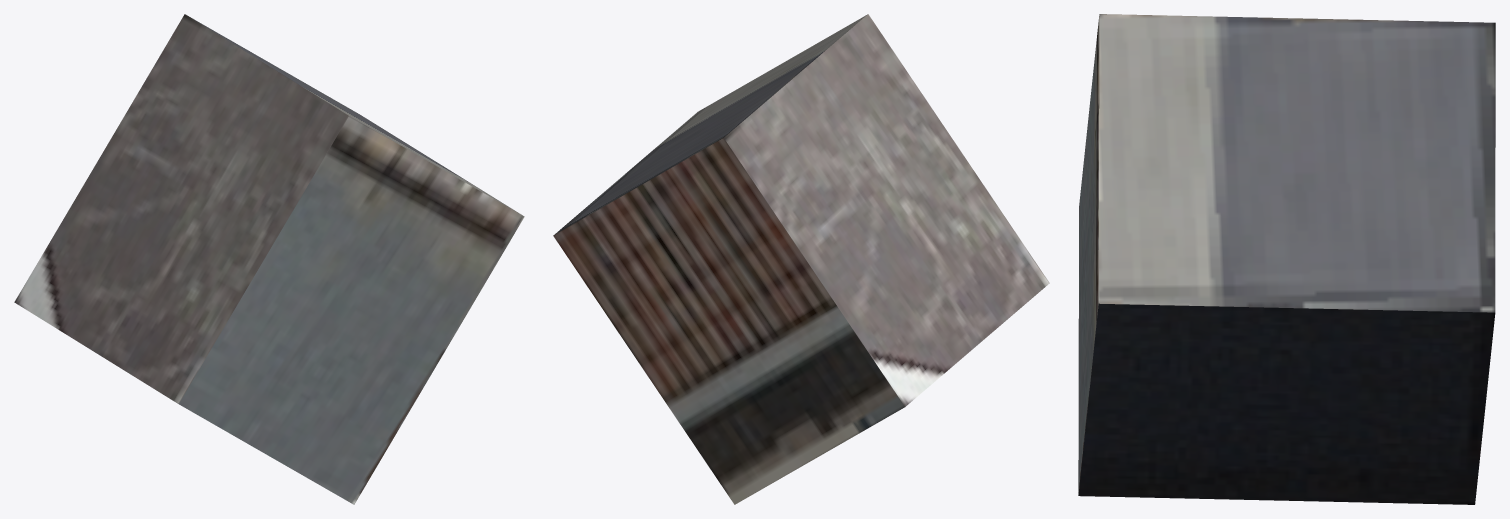
3 renders of one model, left to right at view 1: azimuth 30°, elevation 25°; view 2: azimuth 150°, elevation 25°; view 3: azimuth 270°, elevation 25°, orthographic. The views are drawn at different scales.
Parts seen in each view (by area): view 1: BAG_0599100100019947; view 2: BAG_0599100100019947; view 3: BAG_0599100100019947.
Boxes of the visible parts, x1,y1,x2,y2 form: BAG_0599100100019947: [14, 14, 524, 504]; BAG_0599100100019947: [553, 14, 1049, 504]; BAG_0599100100019947: [1078, 14, 1495, 504].
Bounding box in the file's own units: 3.33 × 3.46 × 2.63.
Materials: 1 (1 with a texture image).
